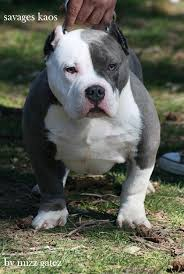Perro Pitbull: (21, 28, 169, 185)
